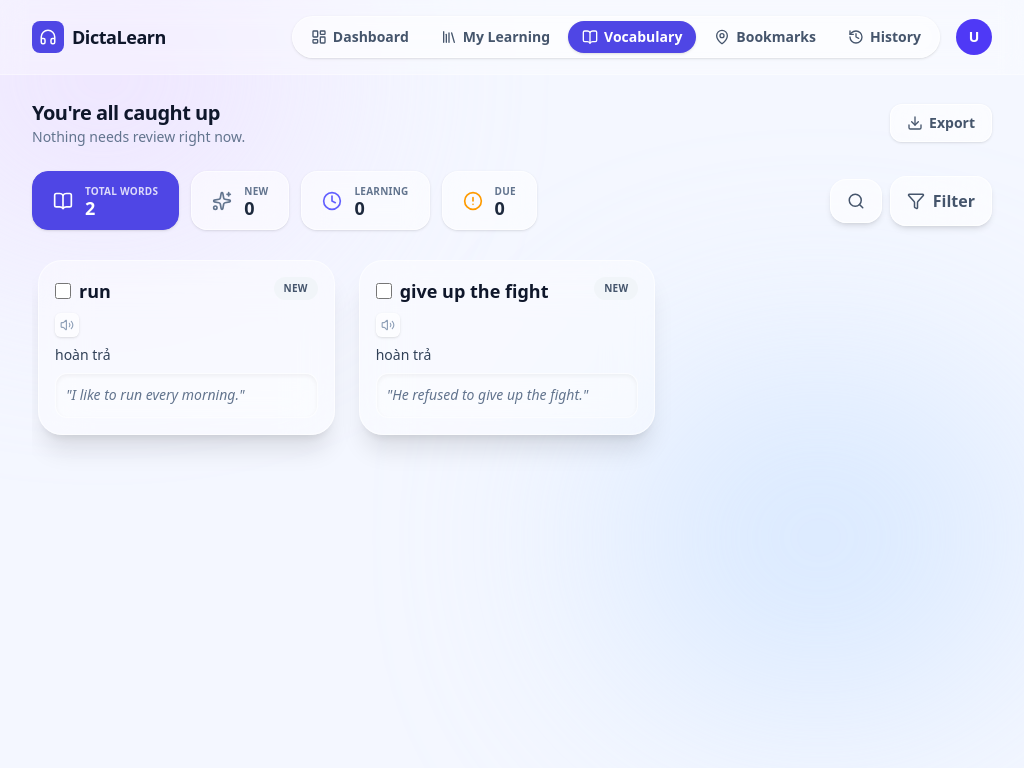
VocabularyPage › type filter uses the shared word/phrase inference and shows only matching cards
Expected: the number of elements with test id "vocab-card" is 2, [38, 260, 335, 435]; [359, 260, 655, 435]
Click the button "Filter". click: click(941, 200)
box: [890, 176, 992, 226]
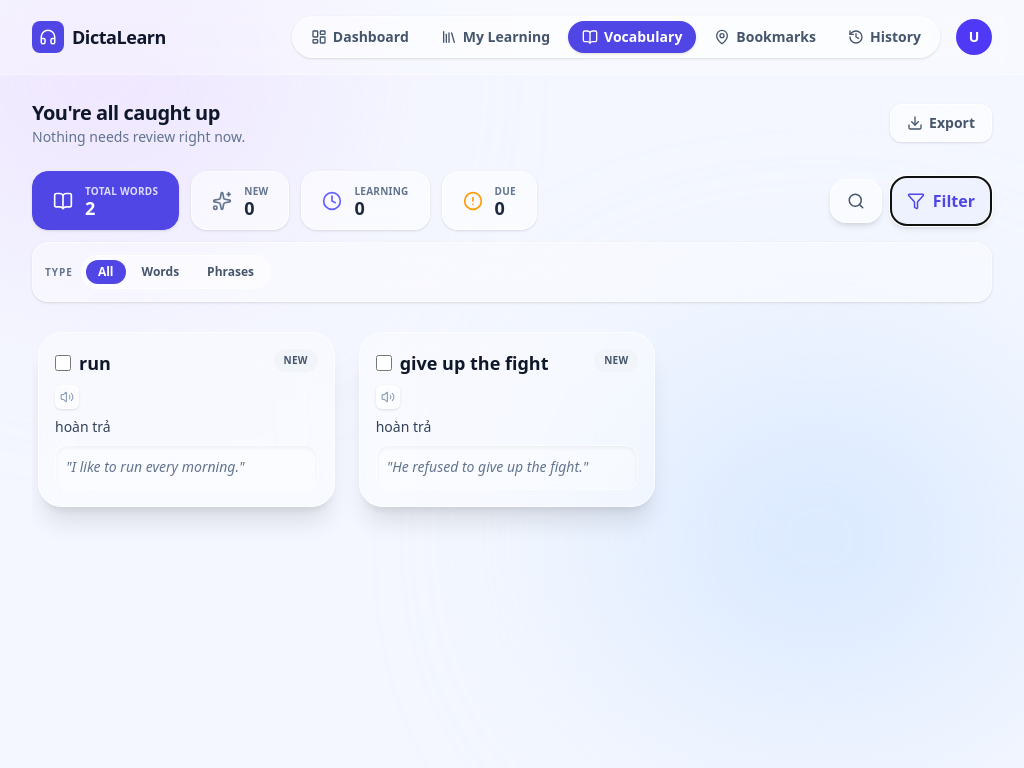
Click the button "Phrases". click: click(231, 272)
box: [195, 260, 266, 284]
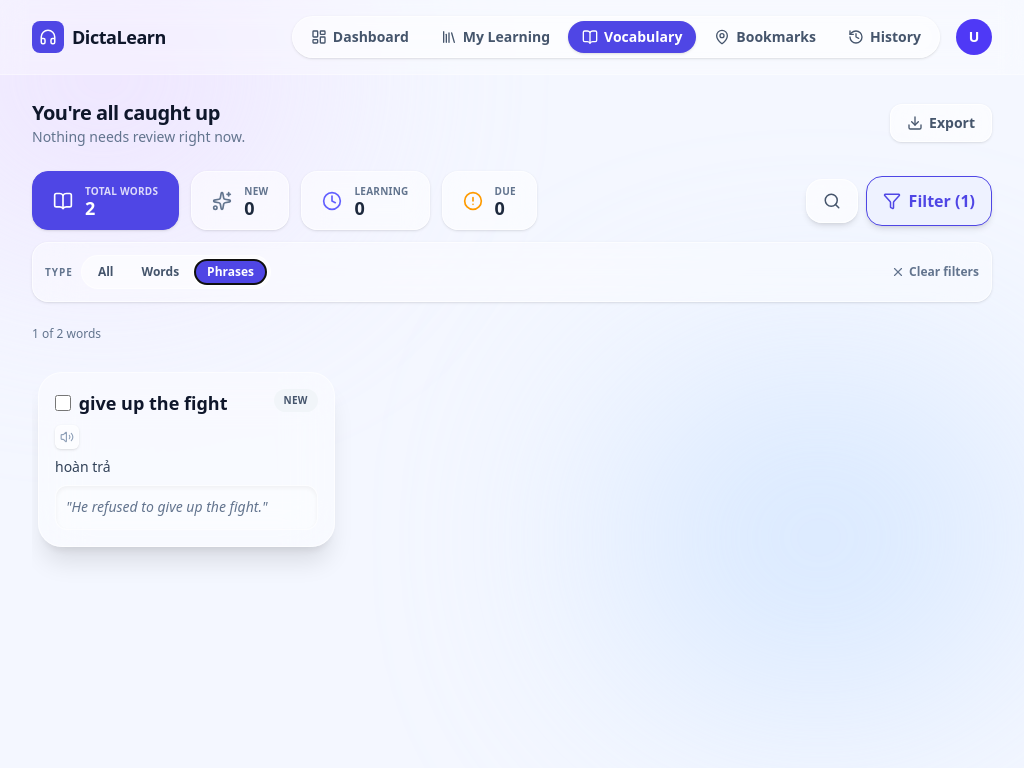
Expected: the number of elements with test id "vocab-card" is 1, [38, 372, 335, 547]
